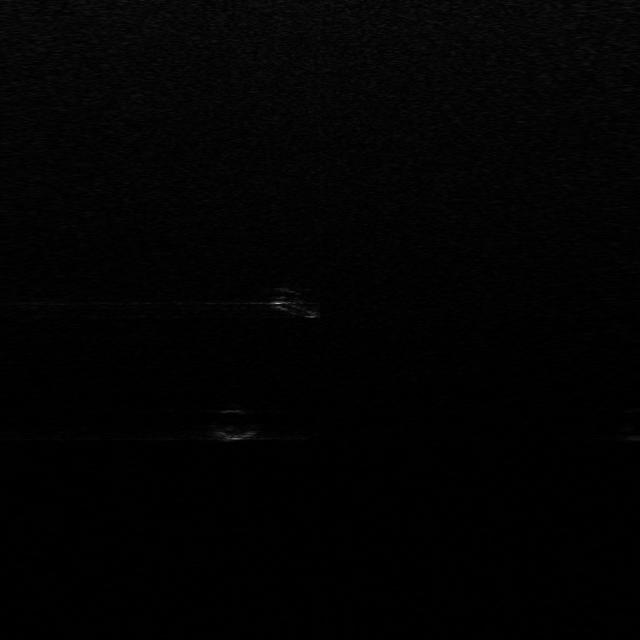ball: (204, 407, 264, 441)
tyre: (269, 286, 322, 323)
